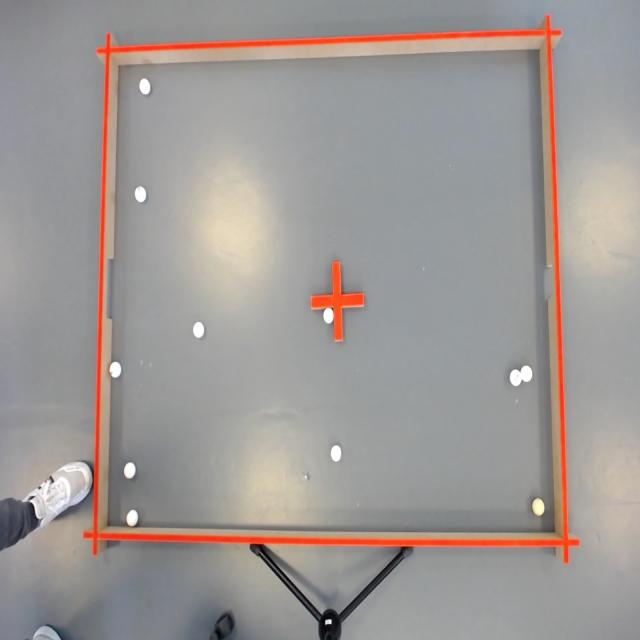big-goal: (104, 258, 116, 321)
obstacle: (106, 33, 549, 71), (541, 38, 573, 538), (93, 54, 118, 530), (96, 529, 568, 545), (310, 260, 366, 345)
small-goal: (543, 261, 555, 303)
white-golf-balls: (132, 182, 149, 210), (530, 492, 546, 520), (106, 357, 124, 381), (121, 457, 137, 484), (519, 361, 535, 384), (125, 507, 141, 528), (191, 320, 206, 342), (329, 442, 344, 464), (138, 75, 152, 98), (508, 367, 522, 388), (322, 306, 334, 326)
